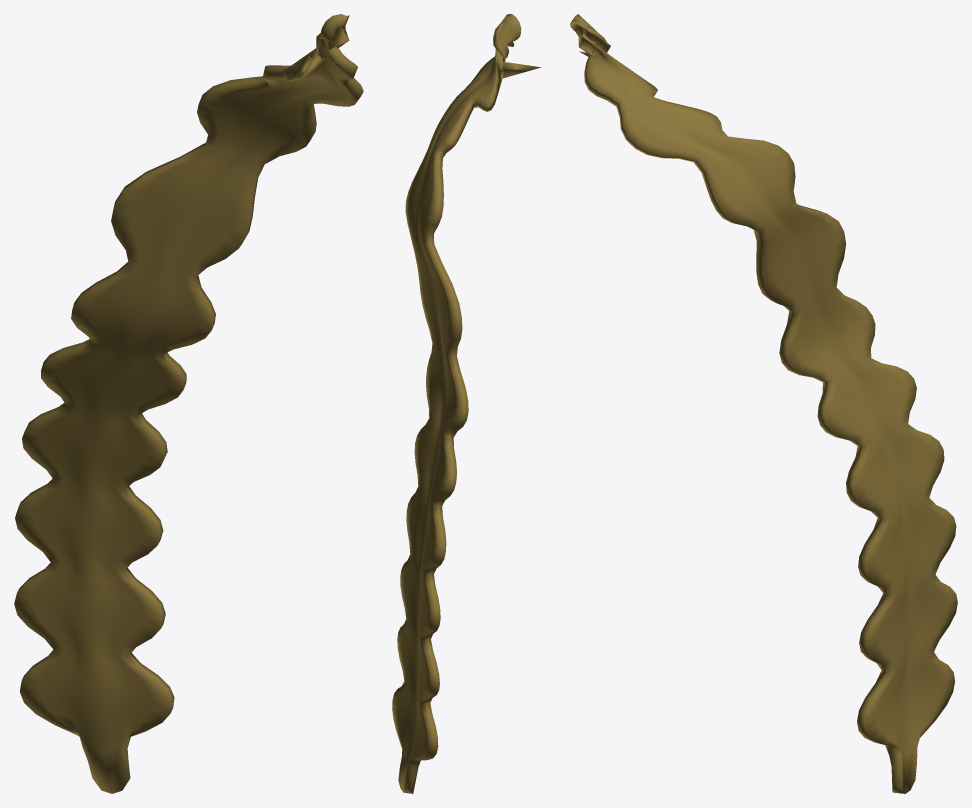
File: Seagweeds 22.fbx
3 views of the same model, side by side, from view 1: azimuth 30°, elevation 25°; view 2: azimuth 150°, elevation 25°; view 3: azimuth 270°, elevation 25° (orthographic). The views are drawn at different scales.
Visible parts, largest first — view 1: Seaweed 22; view 2: Seaweed 22; view 3: Seaweed 22.
Boxes of the visible parts, bbox=[...] form: Seaweed 22: bbox=[14, 14, 363, 793]; Seaweed 22: bbox=[392, 14, 540, 793]; Seaweed 22: bbox=[570, 14, 957, 793].
Bounding box in the file's own units: 2.03 × 10.15 × 4.48.
